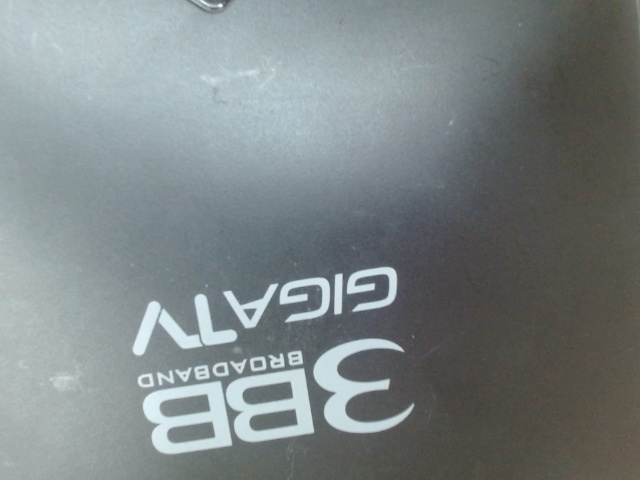AG_3BB: (105, 258, 422, 458)
